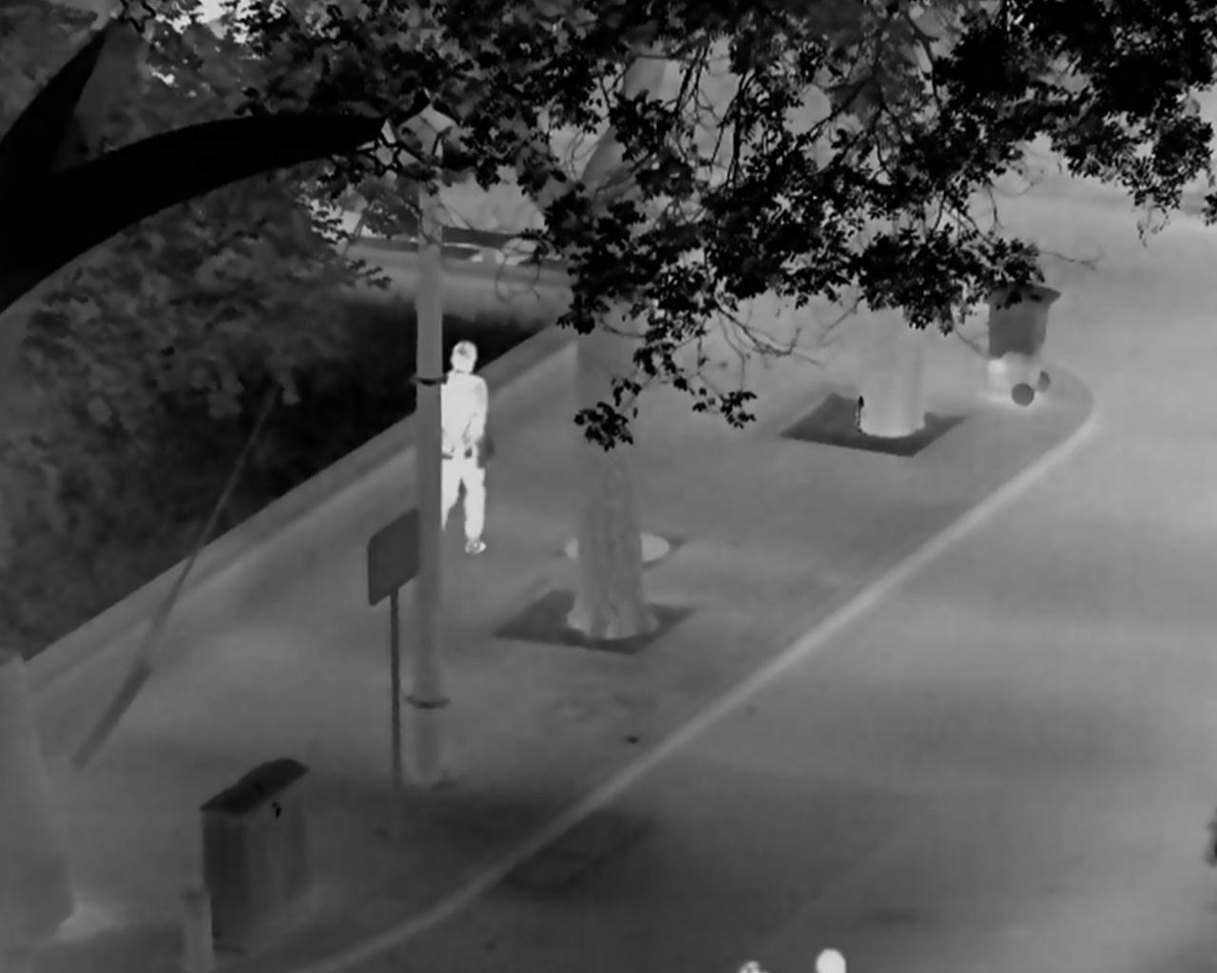person: (441, 337, 492, 555), (813, 947, 848, 973), (736, 959, 768, 973)
